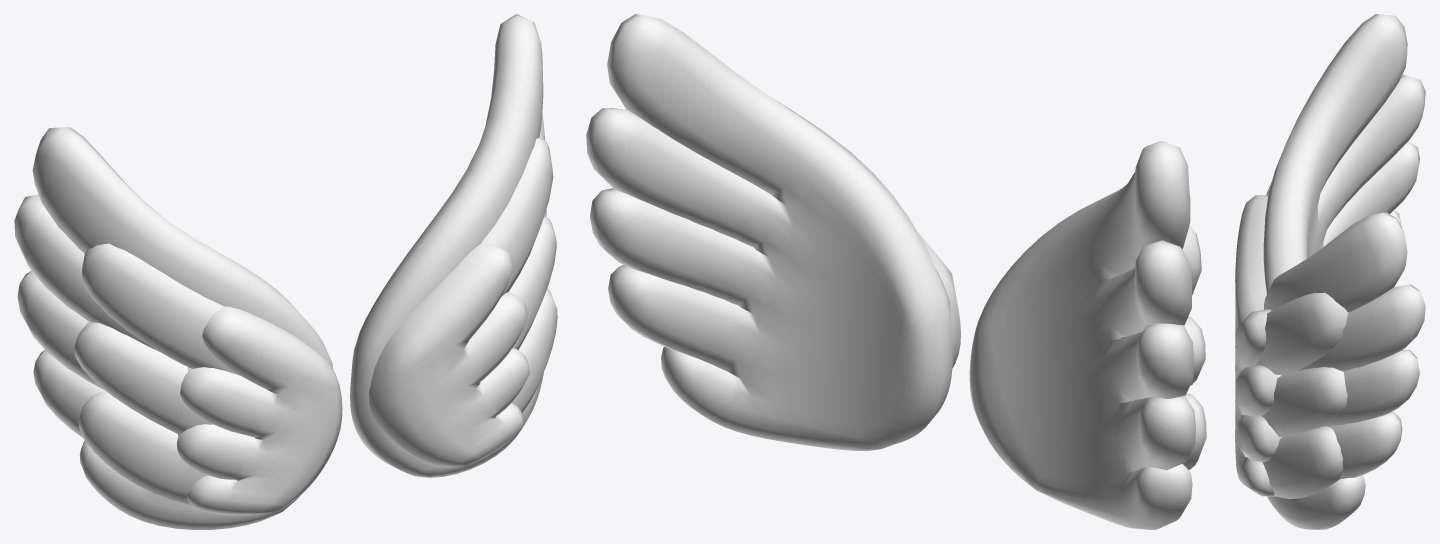
Rendered from wings.fbx.
The picture shows the model from 3 angles, left to right: view 1: azimuth 30°, elevation 25°; view 2: azimuth 150°, elevation 25°; view 3: azimuth 270°, elevation 25°; orthographic projection. The views are drawn at different scales.
Visible parts, largest first — view 1: wings; view 2: wings; view 3: wings.
Part boxes in pixels (left/top/right/bottom): wings: left=14, top=14, right=557, bottom=529; wings: left=586, top=14, right=1206, bottom=529; wings: left=1235, top=14, right=1425, bottom=529.
Size of the model in its own units: 15.69 by 11.23 by 5.62.
1 material, 1 textured.
